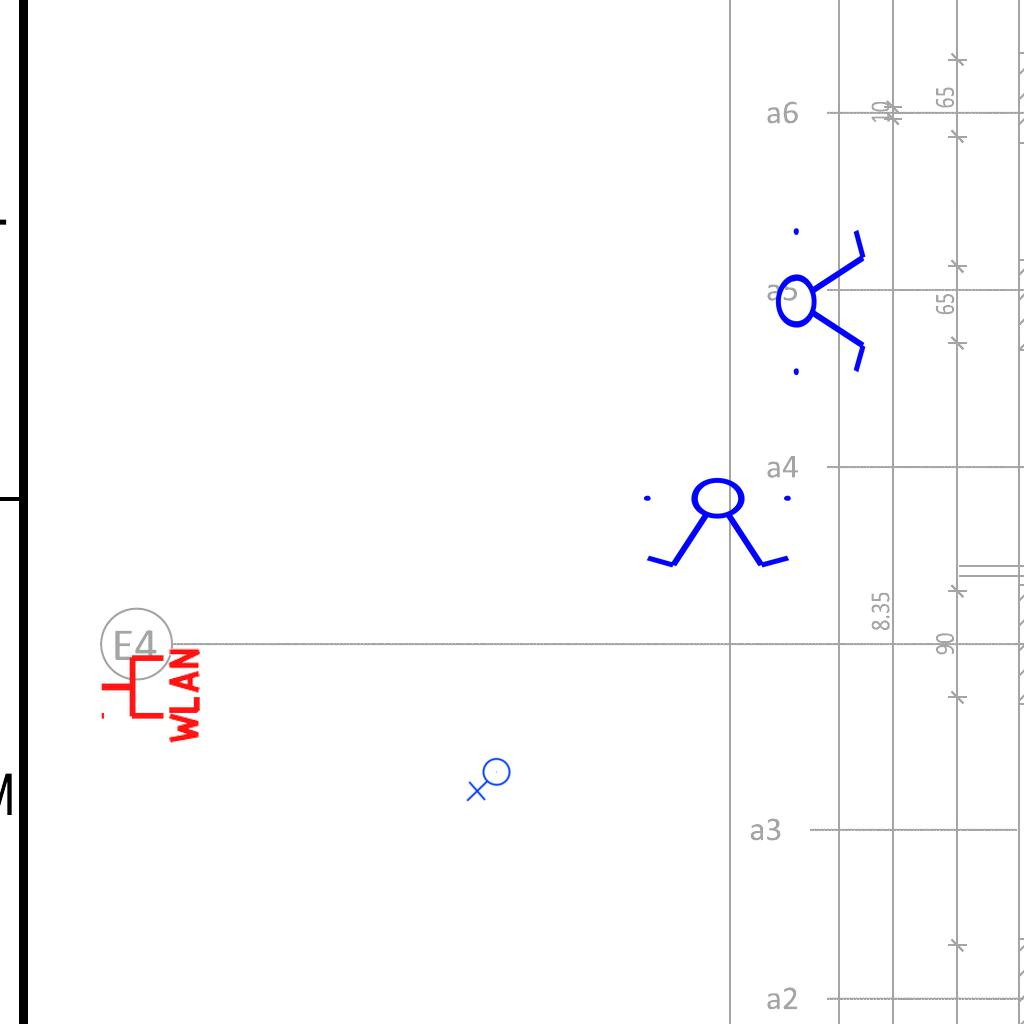Elektroanschluss_allgemein_230V_Geraeteanschlussdose_230V: (466, 757, 515, 804)
Serienschalter: (635, 476, 803, 572), (774, 216, 870, 384)
WLAN: (97, 644, 202, 748)
